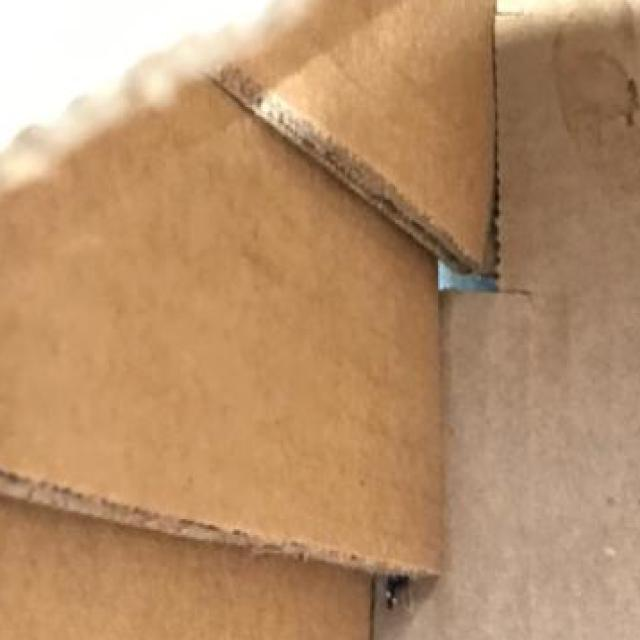organic: (11, 7, 639, 634)
